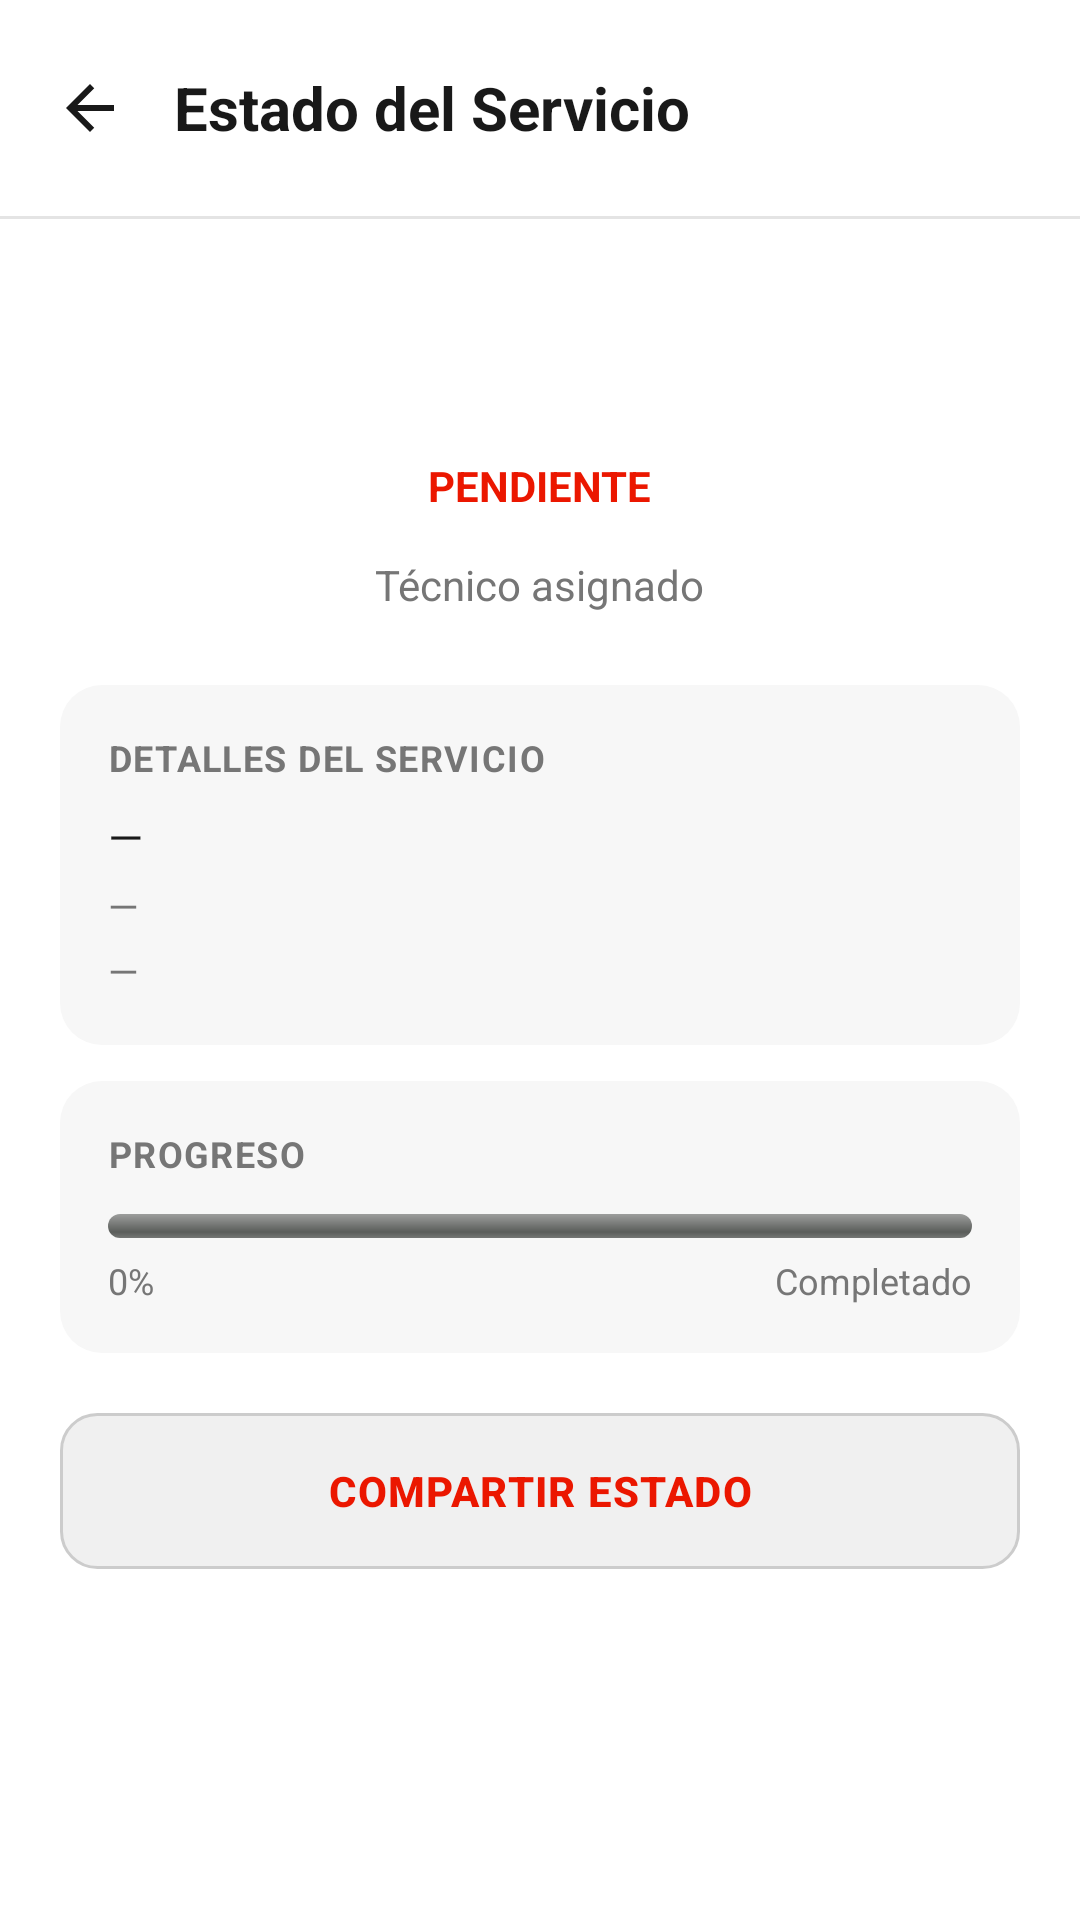

Locate icon controls on the screen. Image size 1080 x 1920, boxes as bbox(x1, y1, x2, y2).
Atrás: bbox(66, 84, 114, 132)
